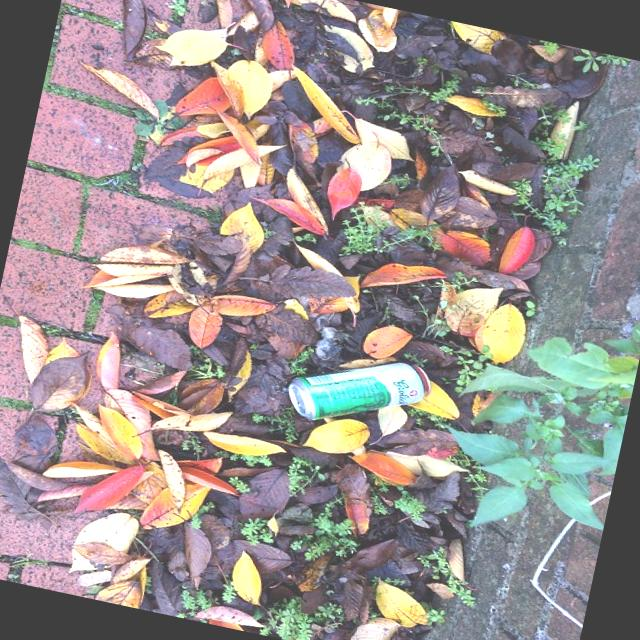Recycle: (283, 336, 435, 441)
